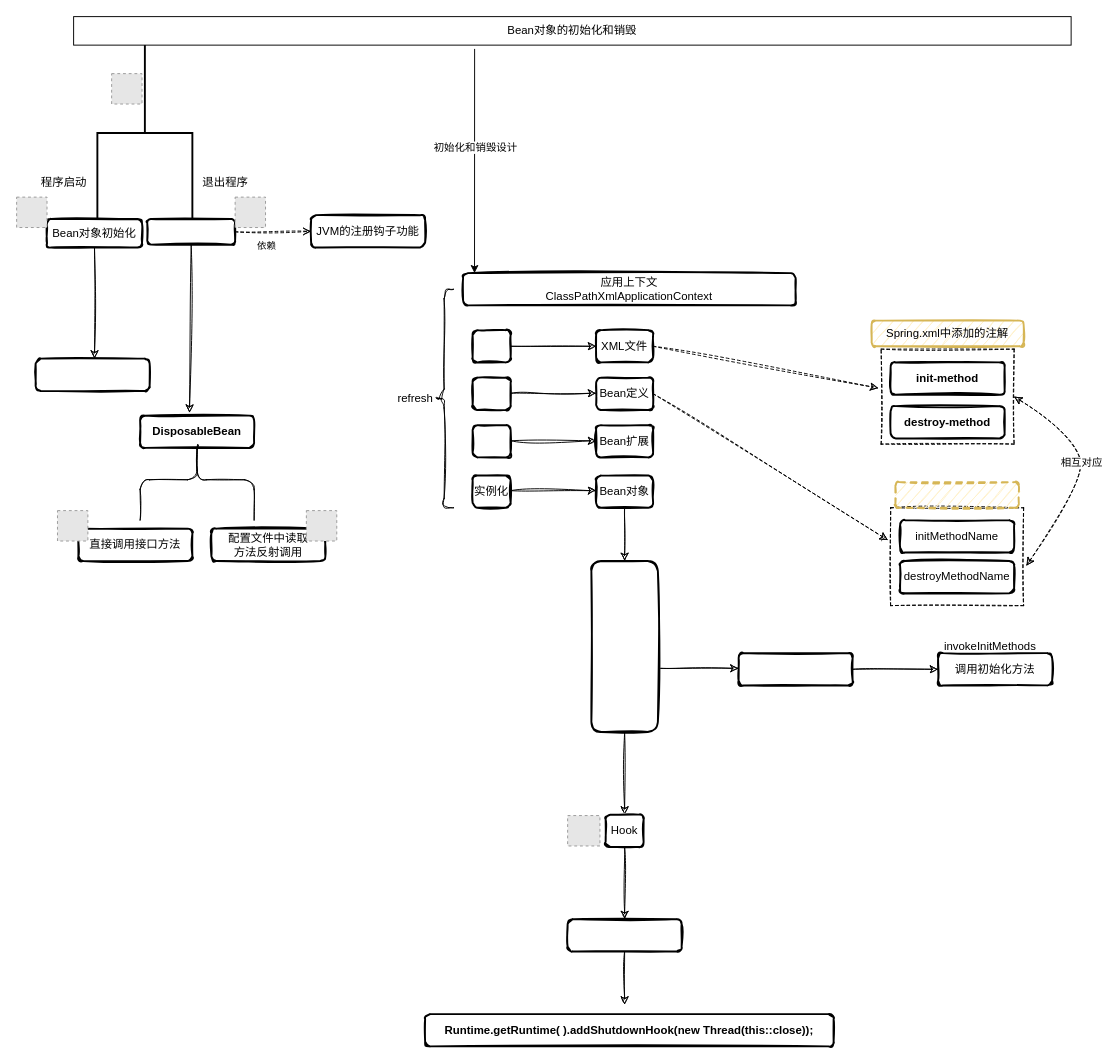
The diagram is 1118 pixels wide and 1064 high, and some of its shapes have lost their labels. Grey dashed boxes stand in for pictures. The shapes that lost their labels are listed below. From the top down, each one's centre as x and y in pixels, then its label:
At [191,231]: "Bean对象销毁".
At [491,346]: "加载".
At [92,374]: "InitializingBean".
At [491,393]: "修改".
At [491,441]: "注册".
At [196,479]: "使用方式".
At [956,494]: "Bean定义中新增属性".
At [624,646]: "SpringBean 容器".
At [795,669]: "createBean".
At [624,935]: "钩子，调用销毁方法".
